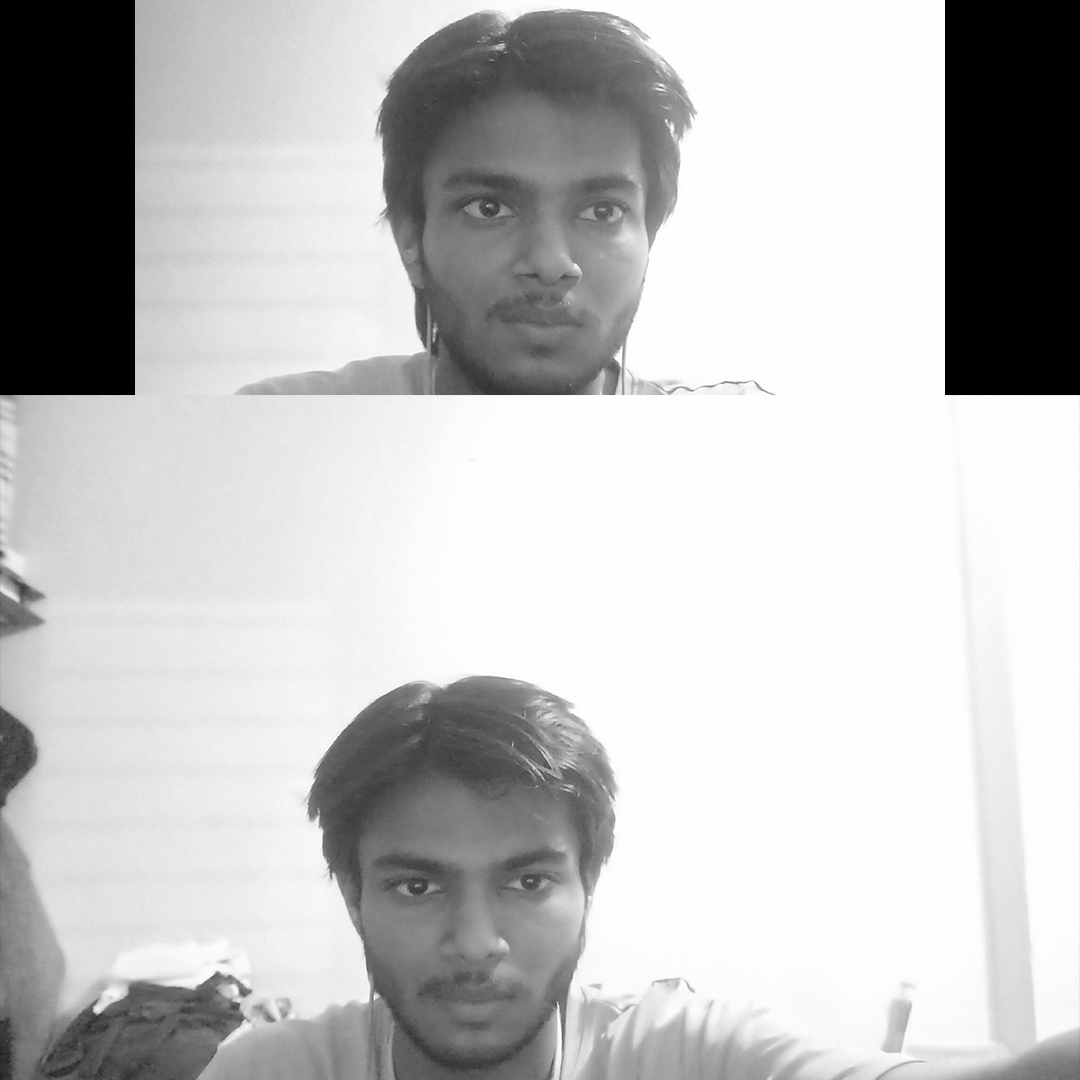Focused: (242, 612, 641, 1069), (293, 21, 696, 387)
